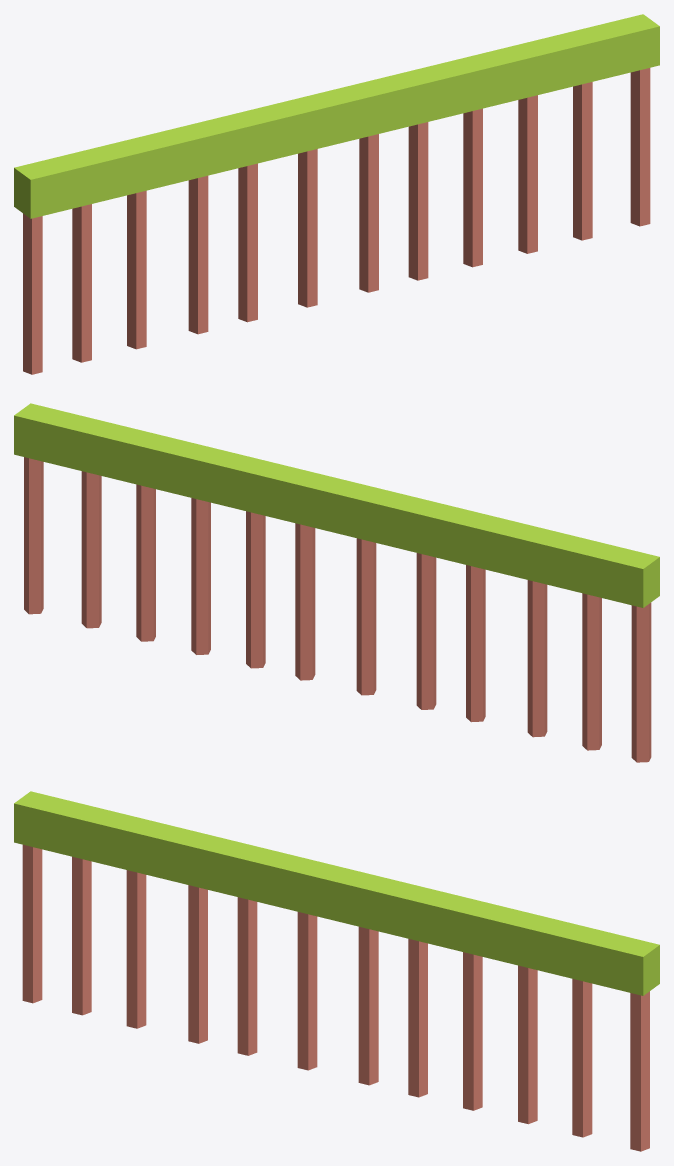
The model's file is valla (1).fbx.
3 views of the same model, one above another, from view 1: azimuth 30°, elevation 25°; view 2: azimuth 150°, elevation 25°; view 3: azimuth 330°, elevation 25° (orthographic).
Parts seen in each view (by area): view 1: Cube, Cylinder.005, Cylinder.007, Cylinder.011, Cylinder, Cylinder.006, Cylinder.009, Cylinder.001, Cylinder.003, Cylinder.004, Cylinder.010, Cylinder.002 (+1 smaller); view 2: Cube, Cylinder, Cylinder.009, Cylinder.003, Cylinder.006, Cylinder.004, Cylinder.002, Cylinder.001, Cylinder.007, Cylinder.010, Cylinder.008, Cylinder.005 (+1 smaller); view 3: Cube, Cylinder.006, Cylinder.004, Cylinder, Cylinder.002, Cylinder.003, Cylinder.009, Cylinder.011, Cylinder.005, Cylinder.007, Cylinder.001, Cylinder.008 (+1 smaller).
Boxes of the visible parts, left/top/right/bottom form: Cube: left=14, top=14, right=659, bottom=218; Cylinder.005: left=188, top=175, right=208, bottom=334; Cylinder.007: left=408, top=122, right=428, bottom=280; Cylinder.011: left=630, top=68, right=650, bottom=226; Cylinder: left=23, top=213, right=42, bottom=374; Cylinder.006: left=359, top=134, right=378, bottom=292; Cylinder.009: left=573, top=82, right=592, bottom=240; Cylinder.001: left=72, top=204, right=91, bottom=362; Cylinder.003: left=298, top=149, right=317, bottom=307; Cylinder.004: left=238, top=163, right=257, bottom=322; Cylinder.010: left=518, top=95, right=537, bottom=253; Cylinder.002: left=127, top=190, right=146, bottom=349; Cube: left=14, top=403, right=659, bottom=607; Cylinder: left=631, top=602, right=651, bottom=762; Cylinder.009: left=81, top=471, right=101, bottom=628; Cylinder.003: left=356, top=538, right=376, bottom=695; Cylinder.006: left=295, top=523, right=315, bottom=680; Cylinder.004: left=416, top=553, right=436, bottom=709; Cylinder.002: left=527, top=580, right=547, bottom=737; Cylinder.001: left=582, top=593, right=601, bottom=750; Cylinder.007: left=246, top=511, right=265, bottom=668; Cylinder.010: left=136, top=484, right=155, bottom=641; Cylinder.008: left=191, top=498, right=210, bottom=654; Cylinder.005: left=466, top=565, right=485, bottom=722; Cube: left=14, top=791, right=659, bottom=995; Cylinder.006: left=358, top=926, right=378, bottom=1085; Cylinder.004: left=237, top=897, right=257, bottom=1055; Cylinder: left=22, top=844, right=42, bottom=1003; Cylinder.002: left=126, top=870, right=146, bottom=1028; Cylinder.003: left=297, top=912, right=317, bottom=1070; Cylinder.009: left=572, top=979, right=592, bottom=1137; Cylinder.011: left=630, top=991, right=649, bottom=1151; Cylinder.005: left=188, top=885, right=207, bottom=1043; Cylinder.007: left=408, top=939, right=427, bottom=1097; Cylinder.001: left=72, top=856, right=91, bottom=1015; Cylinder.008: left=463, top=952, right=482, bottom=1110.
Bounding box in the file's own units: 595 × 180 × 27.33.
